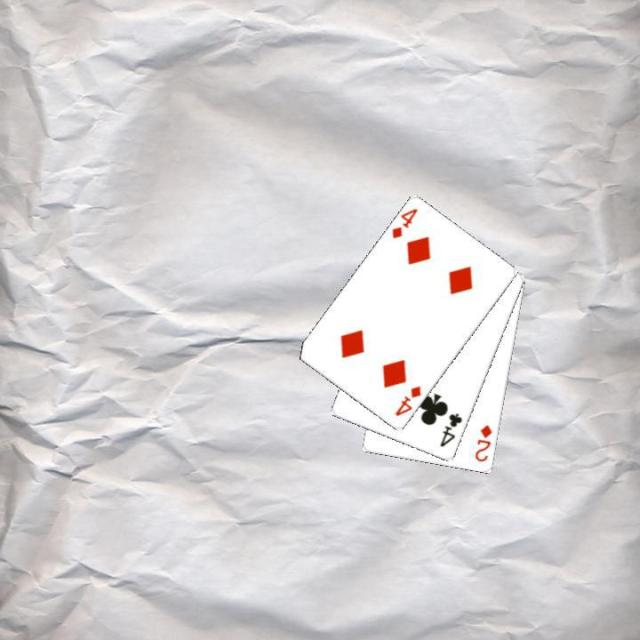2D: (471, 421, 494, 464)
4C: (436, 410, 464, 449)
4D: (391, 382, 423, 419), (388, 204, 420, 241)
